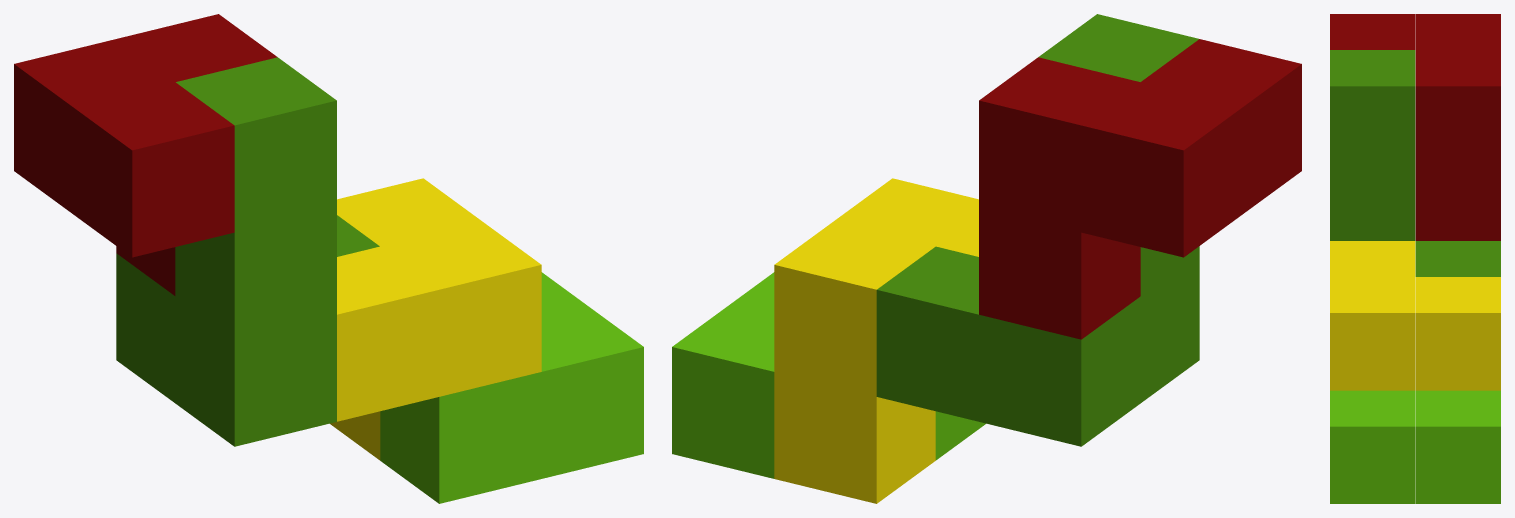
3 views of the same model, side by side, from view 1: azimuth 30°, elevation 25°; view 2: azimuth 150°, elevation 25°; view 3: azimuth 270°, elevation 25° (orthographic). The views are drawn at different scales.
Visible parts, largest first — view 1: mergedBlocks(Clone); view 2: mergedBlocks(Clone); view 3: mergedBlocks(Clone).
Part boxes in pixels (bbox=[...]): mergedBlocks(Clone): bbox=[14, 14, 643, 503]; mergedBlocks(Clone): bbox=[672, 14, 1301, 503]; mergedBlocks(Clone): bbox=[1330, 14, 1500, 503].
Bounding box in the file's own units: 5 × 4 × 2.
Materials: 4 (4 with a texture image).
